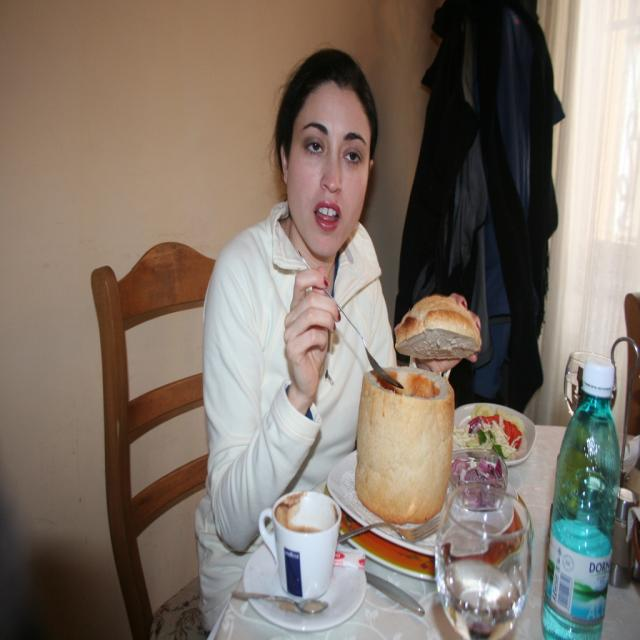Coffee: (271, 489, 353, 607)
